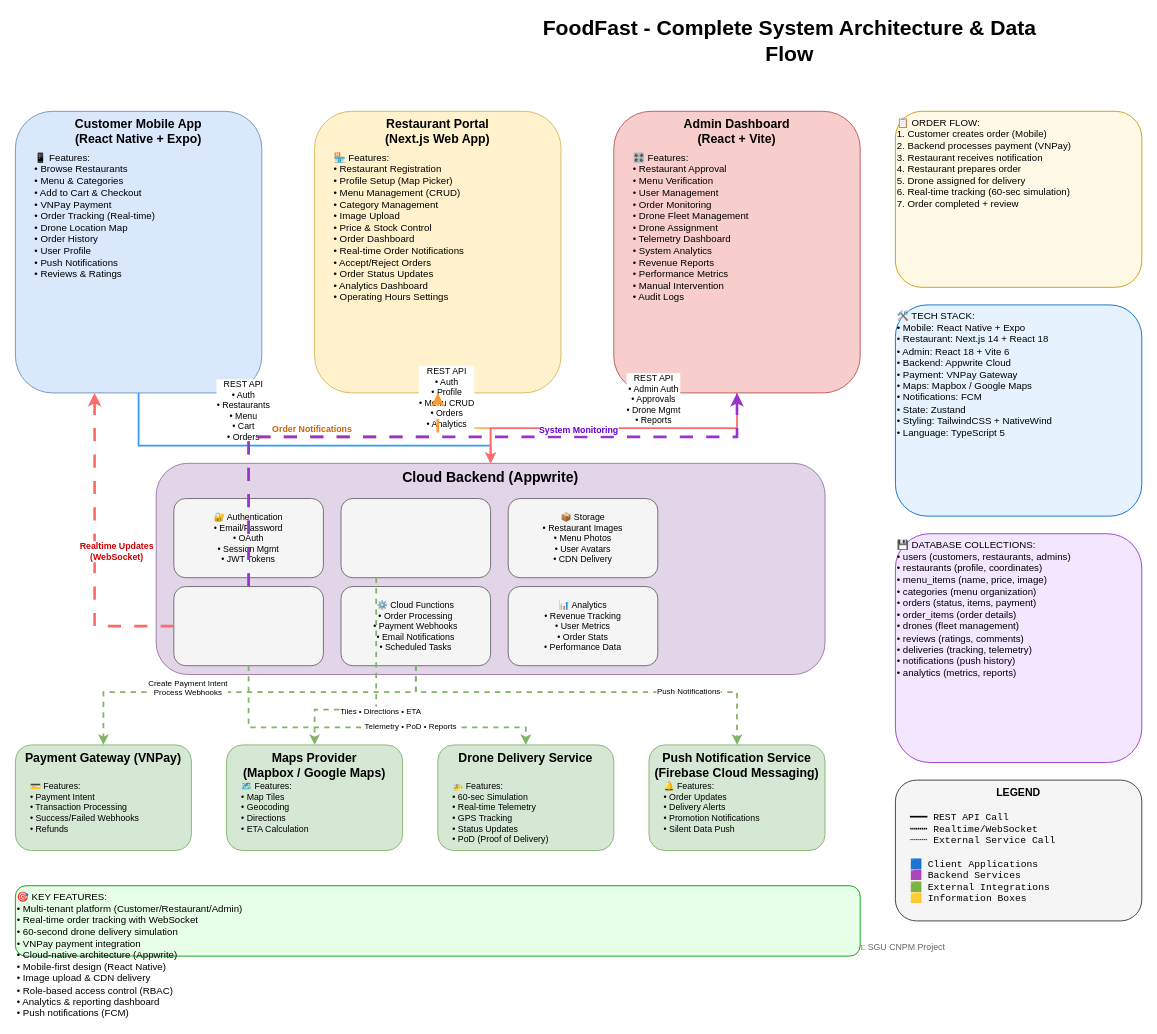
Image size: 1157x1034. Some labels were removed from this diagram. The centre of each missing label's shape, as x and y in pixels:
"⚡ Realtime • Order Updates • Drone Tracking • Notifications • WebSocket/SSE" belongs at point (248, 626).
"💾 Database • Users • Restaurants • Menu Items • Orders • Reviews" belongs at point (415, 538).
